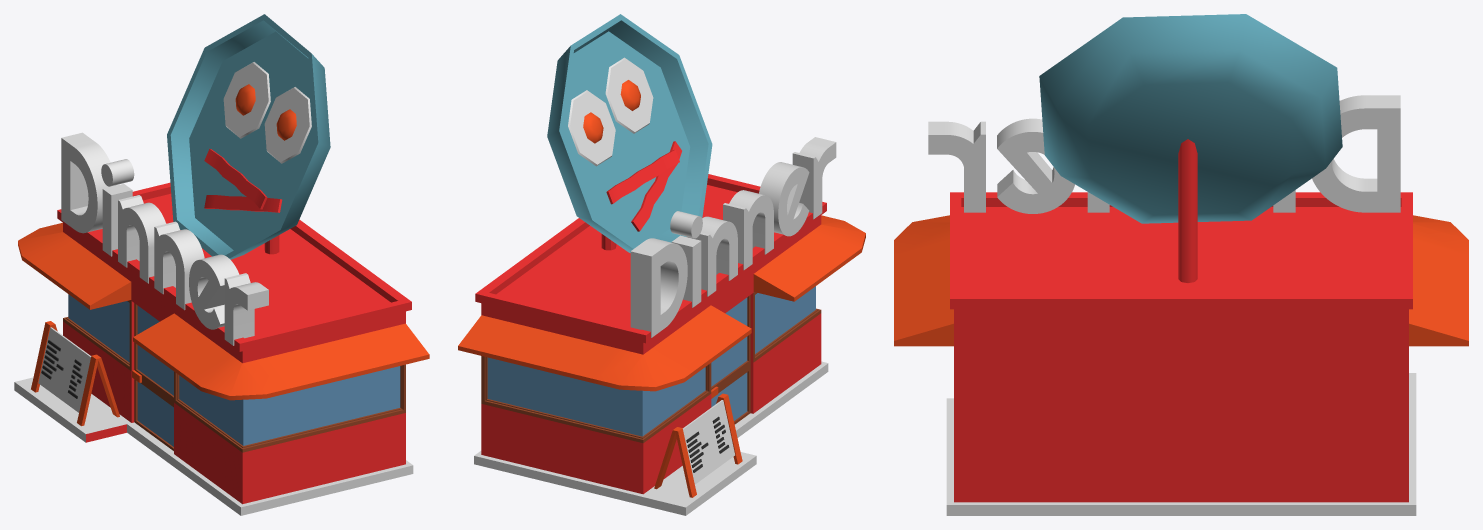
File: Shop_Dinner_B.fbx
3 views of the same model, side by side, from view 1: azimuth 30°, elevation 25°; view 2: azimuth 150°, elevation 25°; view 3: azimuth 270°, elevation 25° (orthographic). The views are drawn at different scales.
Parts seen in each view (by area): view 1: Shop_Dinner_B; view 2: Shop_Dinner_B; view 3: Shop_Dinner_B.
Part boxes in pixels (left/top/right/bottom): Shop_Dinner_B: left=14, top=14, right=429, bottom=515; Shop_Dinner_B: left=458, top=14, right=865, bottom=515; Shop_Dinner_B: left=894, top=14, right=1468, bottom=515.
Size of the model in its own units: 76.32 by 130 by 140.
